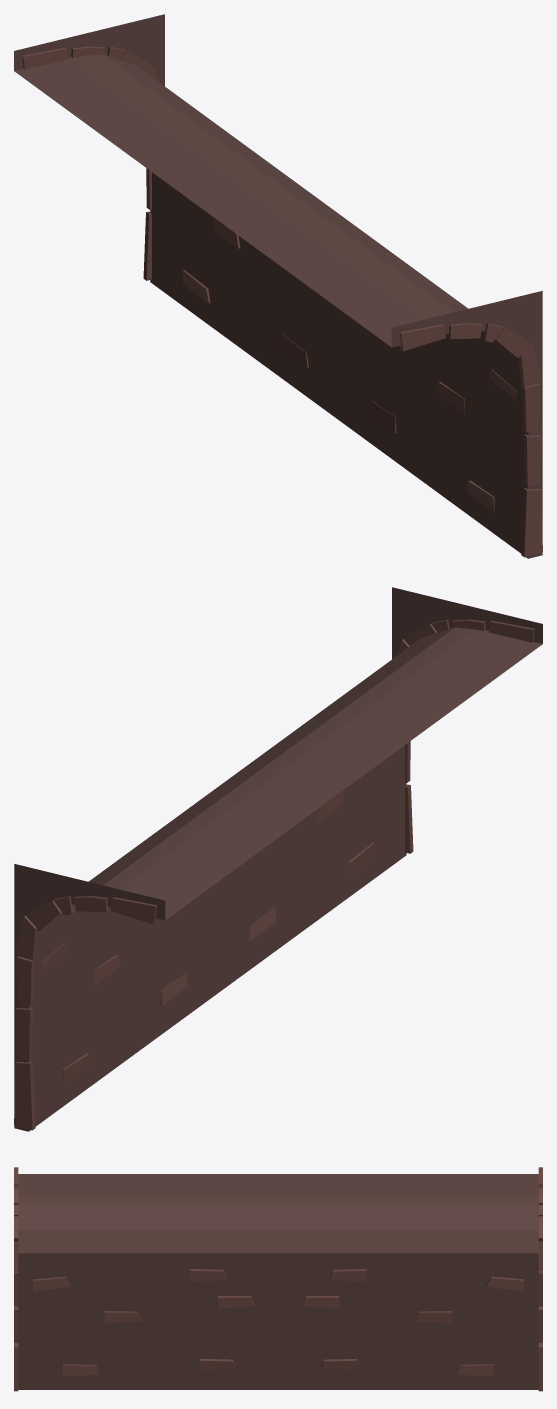
Rendered from bridgeLpieceOpening_module.fbx.
The picture shows the model from 3 angles, top to bottom: view 1: azimuth 30°, elevation 25°; view 2: azimuth 150°, elevation 25°; view 3: azimuth 270°, elevation 25°; orthographic projection. The views are drawn at different scales.
Visible parts, largest first — view 1: Plane.247; view 2: Plane.247; view 3: Plane.247.
Boxes of the visible parts, x1=… form: Plane.247: x1=14, y1=14, x2=542, y2=558; Plane.247: x1=14, y1=587, x2=542, y2=1131; Plane.247: x1=14, y1=1167, x2=542, y2=1391.
Bounding box in the file's own units: 200 × 335 × 874.
